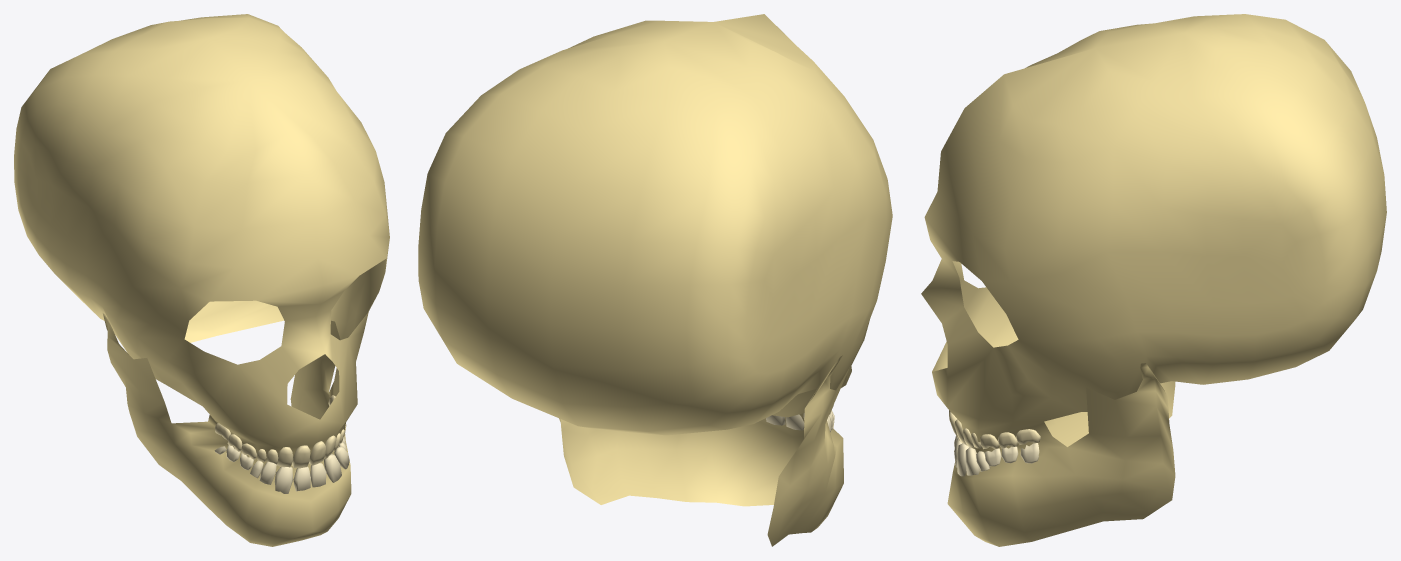
File: skull.fbx
The picture shows the model from 3 angles, left to right: view 1: azimuth 30°, elevation 25°; view 2: azimuth 150°, elevation 25°; view 3: azimuth 270°, elevation 25°; orthographic projection. The views are drawn at different scales.
Visible parts, largest first — view 1: Skull, TeethBack, Teeth Up; view 2: Skull; view 3: Skull, TeethBack, Teeth Up.
Part boxes in pixels (<box>): Skull: <box>14,14,389,546</box>; TeethBack: <box>214,437,349,493</box>; Teeth Up: <box>215,395,346,468</box>; Skull: <box>418,14,892,546</box>; Skull: <box>921,14,1386,546</box>; TeethBack: <box>954,435,1039,476</box>; Teeth Up: <box>949,410,1040,449</box>.
Bounding box in the file's own units: 131 × 210 × 179.
